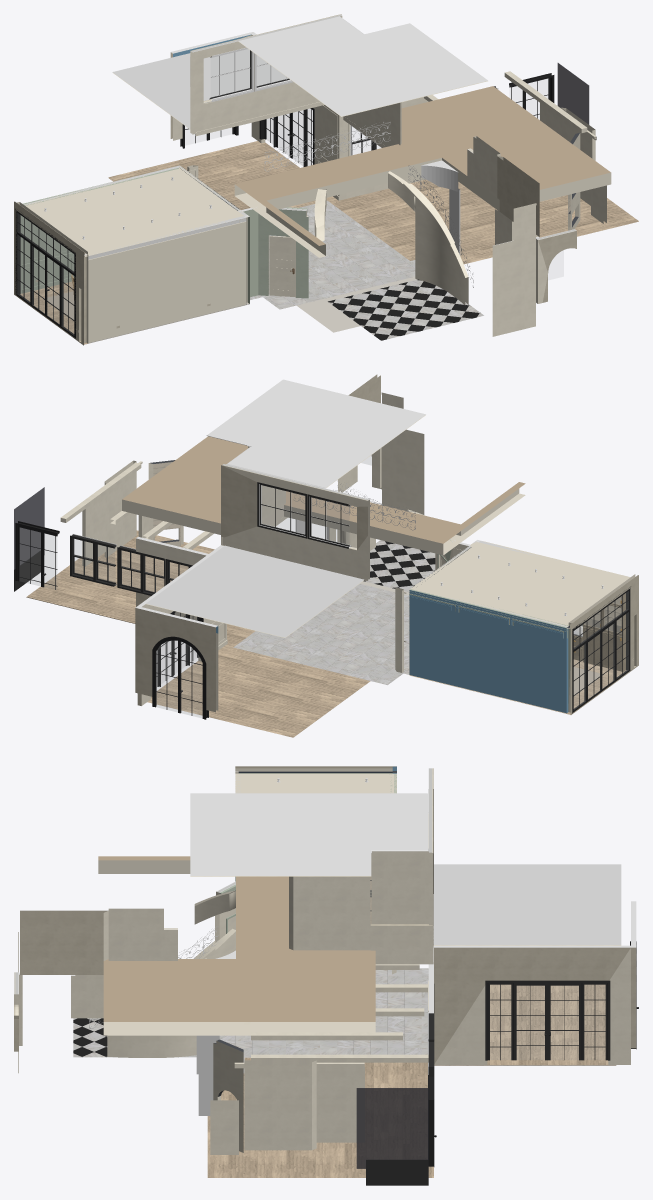
File: dining-room-707fb175fa2d.glb
3 views of the same model, one above another, from view 1: azimuth 30°, elevation 25°; view 2: azimuth 150°, elevation 25°; view 3: azimuth 270°, elevation 25° (orthographic). The views are drawn at different scales.
Parts seen in each view (by area): view 1: dining-room-look-2575515a05775d9e, dining-room-look-9d91b47435c6fb33, dining-room-d999b7e09afcf2f4, dining-room-look-3b0077416469e01b, dining-room-2575515a05775d9e, dining-room-look-ba376bd68a22f7f3, dining-room-look-4a969f5cc1ae3dfe, dining-room-look-c4ac463b6a960119, dining-room-08d72923bcfd3529, dining-room-look-245f595ae2832e16, dining-room-look-d5a4a1b5d3594c04, dining-room-look-8c6a7019fd0063e7 (+36 smaller); view 2: dining-room-look-3b0077416469e01b, dining-room-b19b106fc304963c, dining-room-look-9d91b47435c6fb33, dining-room-look-2575515a05775d9e, dining-room-look-4a969f5cc1ae3dfe, dining-room-2575515a05775d9e, dining-room-look-ba376bd68a22f7f3, dining-room-look-245f595ae2832e16, dining-room-08d72923bcfd3529, dining-room-look-969b861f9850351e, dining-room-look-b57b1dfcc6ff1bca, dining-room-look-d5a4a1b5d3594c04 (+23 smaller); view 3: dining-room-look-2575515a05775d9e, dining-room-look-3b0077416469e01b, dining-room-look-9d91b47435c6fb33, dining-room-look-4a969f5cc1ae3dfe, dining-room-look-e706aa16b4547c37, dining-room-look-3d5fbc3a2a5f9c05, dining-room-look-5b6bbac285e58726, dining-room-look-69af8f587252f9fa, dining-room-look-ba376bd68a22f7f3, dining-room-look-62353aa10fc57f23, dining-room-look-cbd4bf73d9724a66, dining-room-look-32b959c9aa406288 (+18 smaller).
Part boxes in pixels (x1,y1,x2,y2): dining-room-look-2575515a05775d9e: (234,86,611,257); dining-room-look-9d91b47435c6fb33: (238,16,487,116); dining-room-d999b7e09afcf2f4: (88,216,246,342); dining-room-look-3b0077416469e01b: (108,141,638,264); dining-room-2575515a05775d9e: (15,166,249,256); dining-room-look-ba376bd68a22f7f3: (250,200,415,309); dining-room-look-4a969f5cc1ae3dfe: (112,49,288,129); dining-room-look-c4ac463b6a960119: (328,279,483,340); dining-room-08d72923bcfd3529: (15,208,75,338); dining-room-look-245f595ae2832e16: (190,14,342,134); dining-room-look-d5a4a1b5d3594c04: (492,235,535,336); dining-room-look-8c6a7019fd0063e7: (388,171,468,305); dining-room-look-3b0077416469e01b: (26,530,370,737); dining-room-b19b106fc304963c: (409,590,567,713); dining-room-look-9d91b47435c6fb33: (206,379,425,488); dining-room-look-2575515a05775d9e: (122,436,525,555); dining-room-look-4a969f5cc1ae3dfe: (146,545,364,637); dining-room-2575515a05775d9e: (410,541,637,628); dining-room-look-ba376bd68a22f7f3: (233,584,409,684); dining-room-look-245f595ae2832e16: (221,464,369,580); dining-room-08d72923bcfd3529: (572,586,630,713); dining-room-look-969b861f9850351e: (135,606,218,712); dining-room-look-b57b1dfcc6ff1bca: (152,636,208,719); dining-room-look-d5a4a1b5d3594c04: (382,429,424,514); dining-room-look-2575515a05775d9e: (98,856,375,1035); dining-room-look-3b0077416469e01b: (207,984,616,1177); dining-room-look-9d91b47435c6fb33: (190,793,428,876); dining-room-look-4a969f5cc1ae3dfe: (433,864,621,945); dining-room-look-e706aa16b4547c37: (434,945,630,1064); dining-room-look-3d5fbc3a2a5f9c05: (485,980,610,1060); dining-room-look-5b6bbac285e58726: (244,1060,316,1150); dining-room-look-69af8f587252f9fa: (289,876,370,950); dining-room-look-ba376bd68a22f7f3: (219,968,428,1072); dining-room-look-62353aa10fc57f23: (20,910,108,974); dining-room-look-cbd4bf73d9724a66: (356,1088,428,1168); dining-room-look-32b959c9aa406288: (371,851,428,923).
Bounding box in the file's own units: 20 × 6.36 × 16.84.
53 materials, 17 textured.
